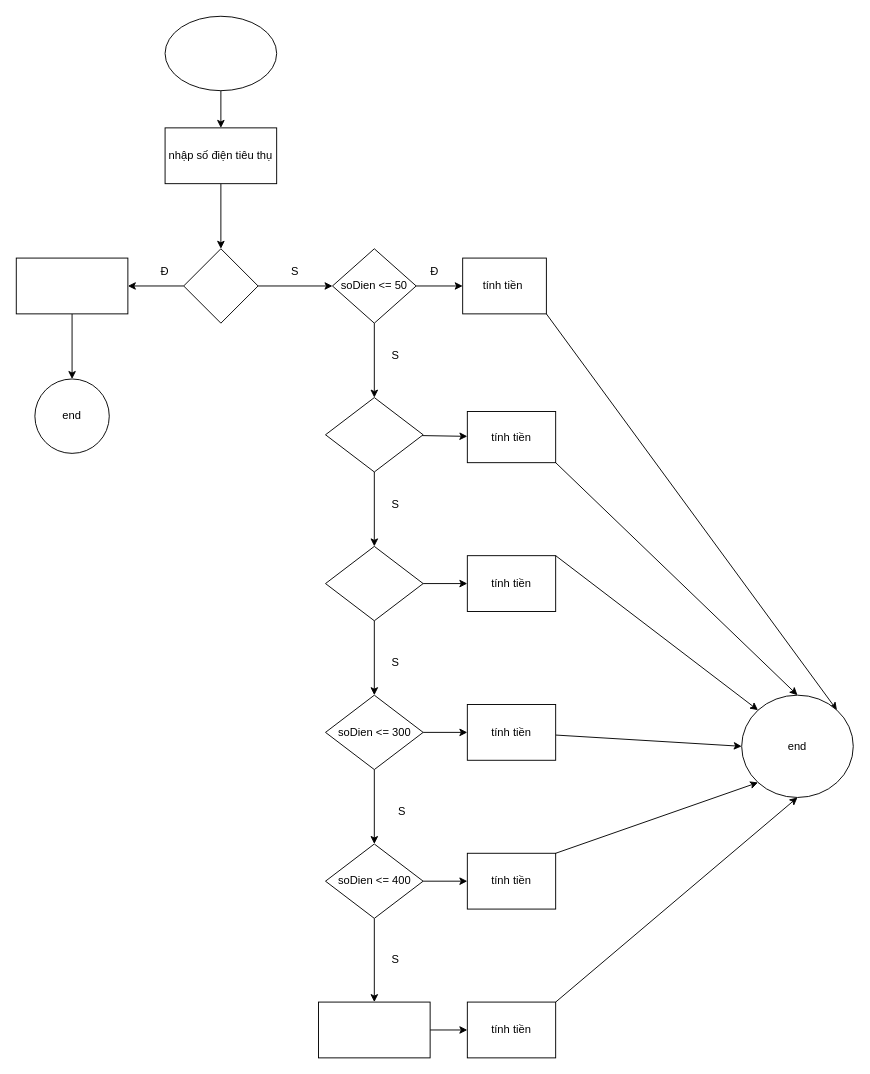
This 870x1074 diagram has some shape labels left out. Each missing label, with the centre of its shape:
soDien < 0: (220,285)
soDien <= 100: (374,434)
soDien <= 200: (374,583)
soDien > 400: (374,1029)
start: (220,53)
số điện không hợp lệ: (71,285)
